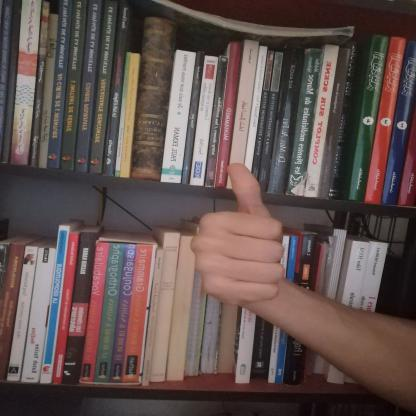ALIF: (181, 157, 298, 309)
